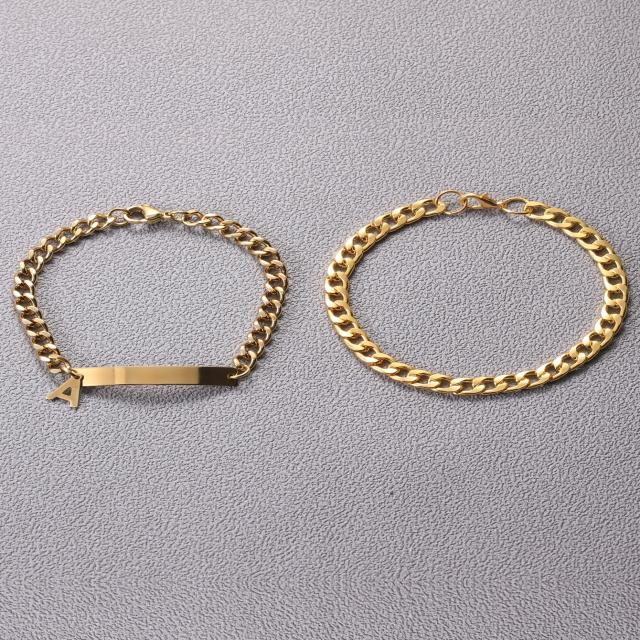bracelet: (290, 141, 640, 457), (0, 111, 299, 414)
